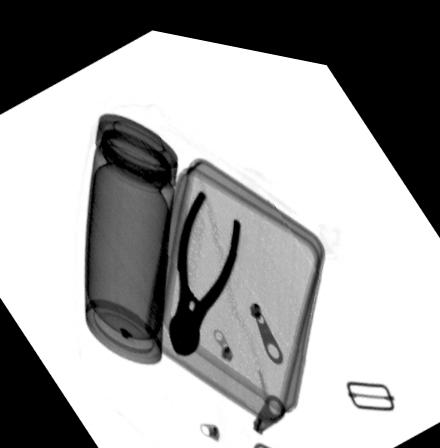Pliers: (167, 181, 241, 350)
